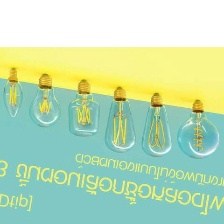light_bulb: (174, 97, 221, 161), (102, 85, 137, 156), (138, 91, 174, 159), (64, 77, 102, 139), (25, 70, 63, 130), (0, 66, 26, 119)
